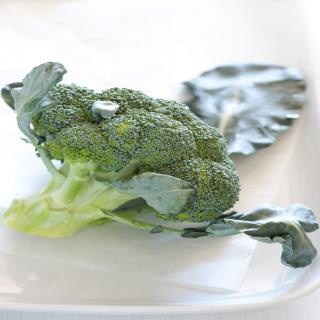Broccoli: (0, 82, 243, 241)
